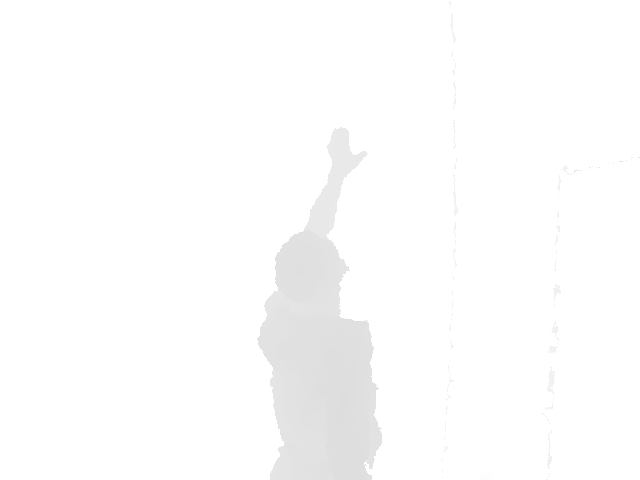hand: (326, 125, 369, 174)
head: (274, 230, 350, 300)
person: (256, 125, 384, 480)
